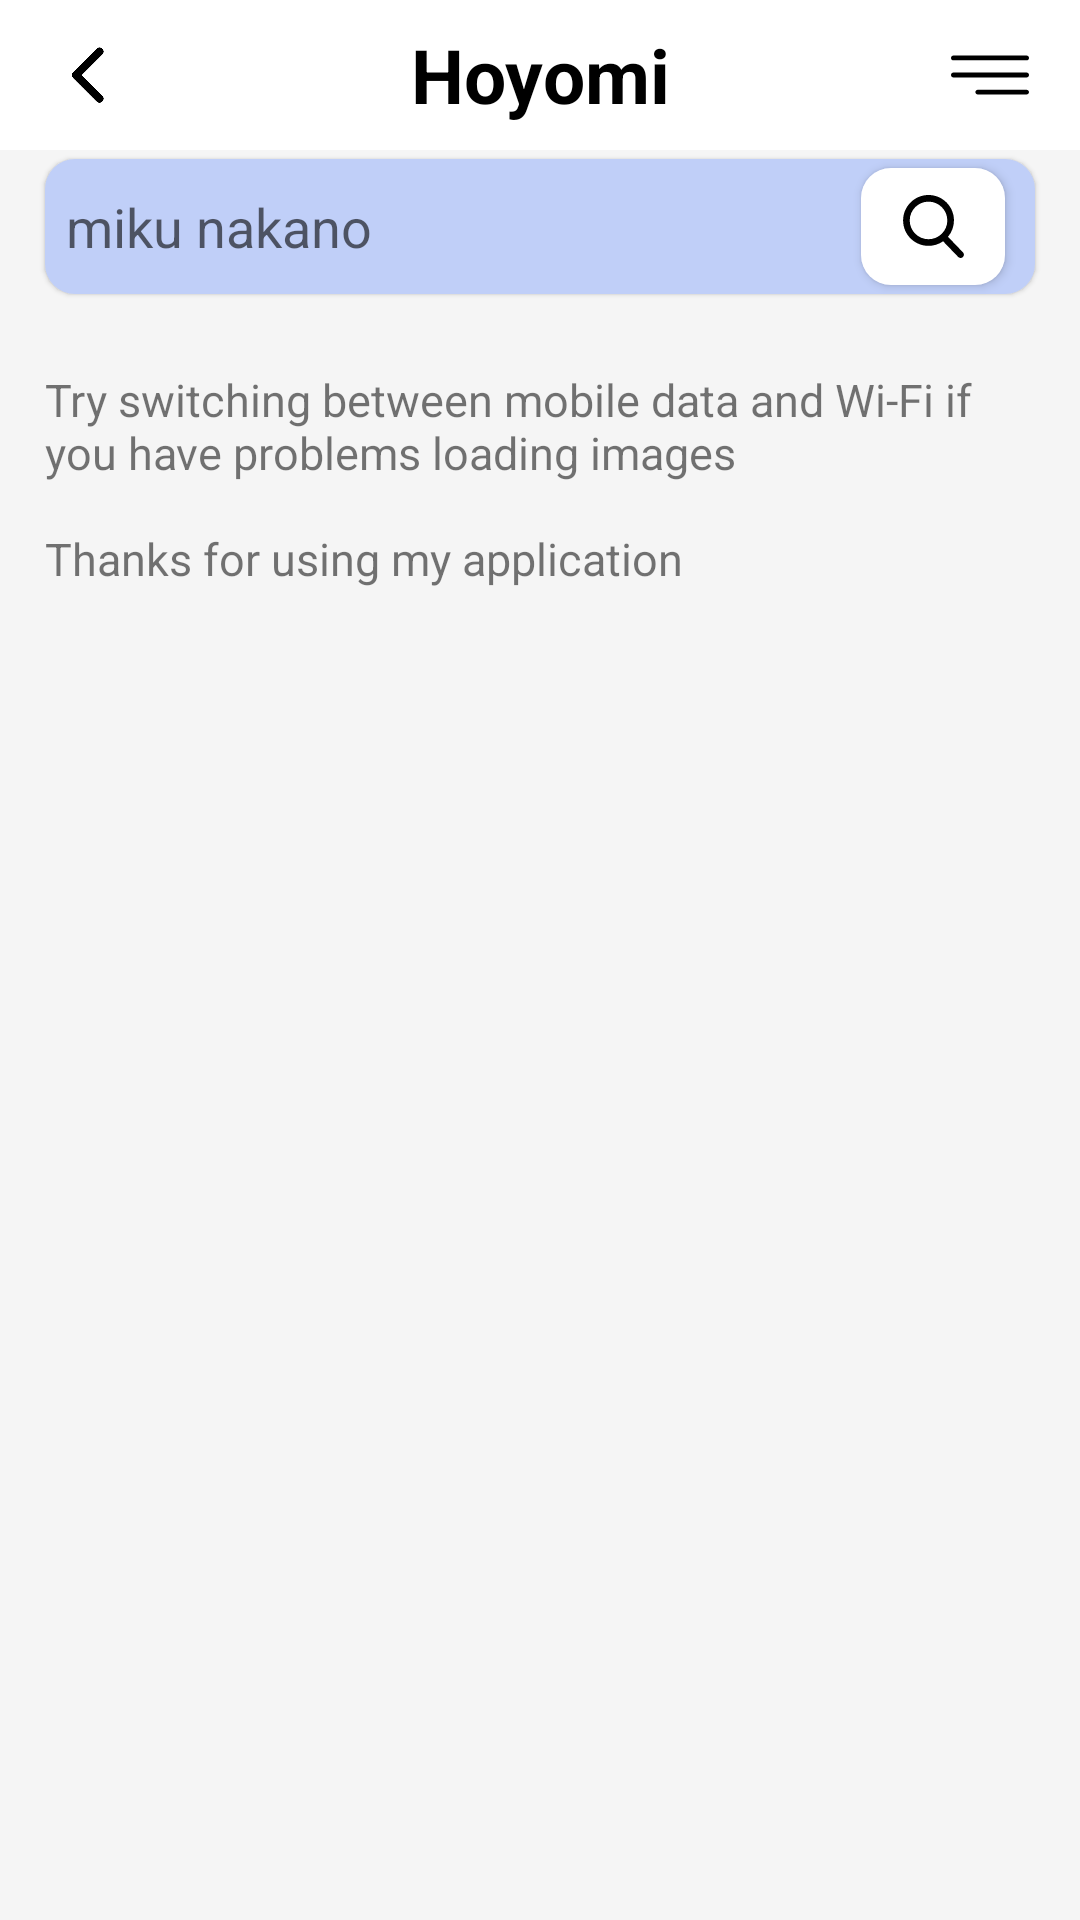

Icon bounding boxes for this 1080w x 1920h phone screenshot, format Rect(x1, y1, x2, y2):
menu: Rect(951, 55, 1029, 95)
search: Rect(861, 168, 1005, 285)
